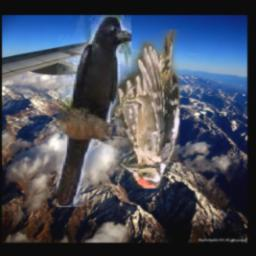Crow: (57, 15, 131, 207)
Woodpecker: (111, 30, 181, 189)
